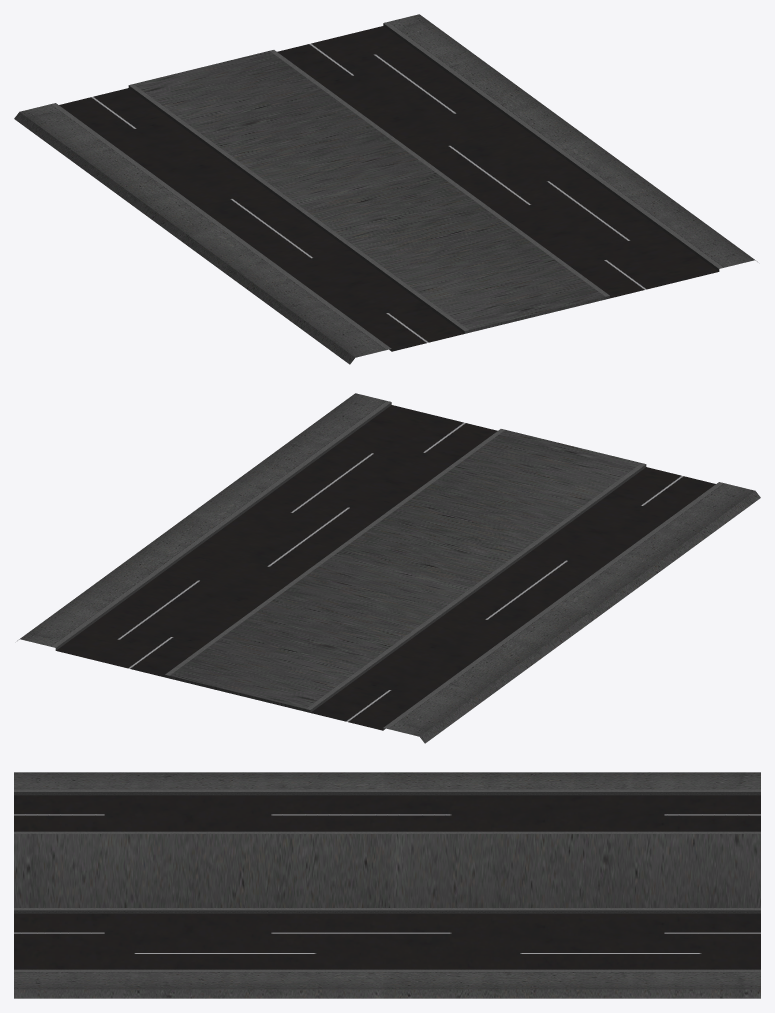
File: RJs_Road Pass 2+4+2 Basic Segment_L.fbx
3 views of the same model, one above another, from view 1: azimuth 30°, elevation 25°; view 2: azimuth 150°, elevation 25°; view 3: azimuth 270°, elevation 25° (orthographic). The views are drawn at different scales.
Visible parts, largest first — view 1: plane; view 2: plane; view 3: plane.
Part boxes in pixels (x1,y1,x2,y2): plane: [14, 14, 757, 364]; plane: [17, 393, 760, 743]; plane: [14, 772, 760, 998].
Bounding box in the file's own units: 4520 × 60.1 × 6400.
